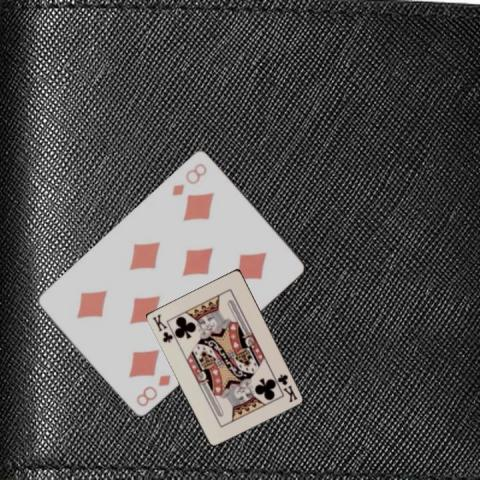8d: (168, 160, 208, 198), (133, 371, 173, 408)
Kc: (149, 311, 174, 344), (274, 372, 299, 404)
